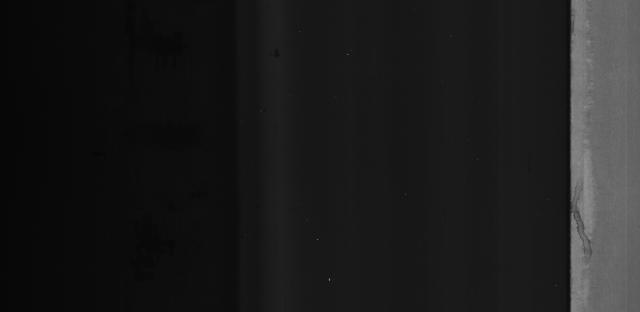water_spot: (572, 181, 614, 265)
